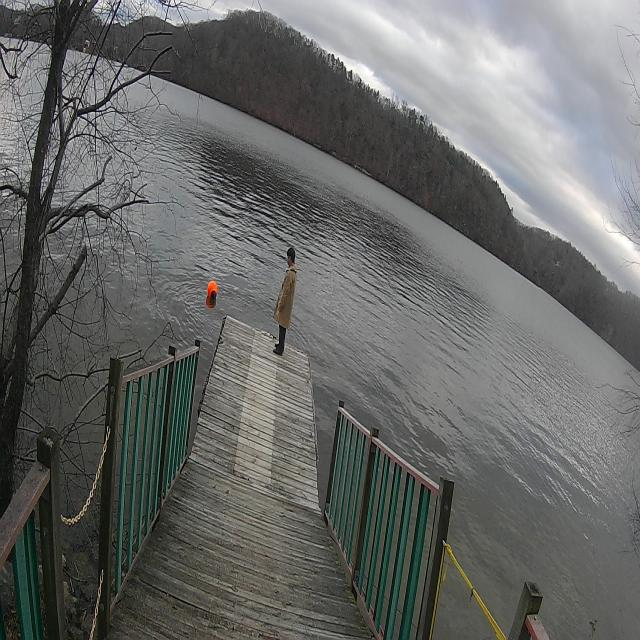Buoy: (206, 276, 220, 306)
